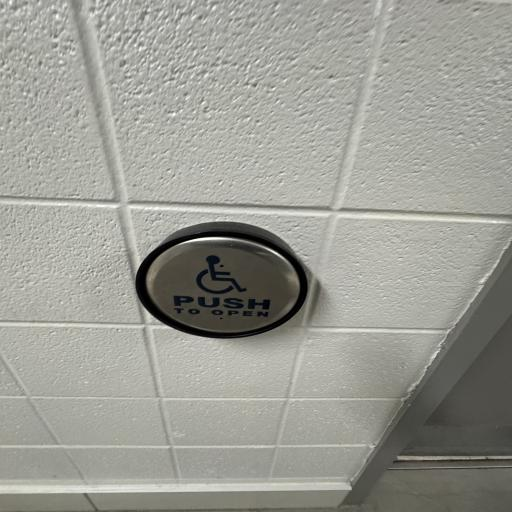handicap push button: (122, 220, 322, 351)
